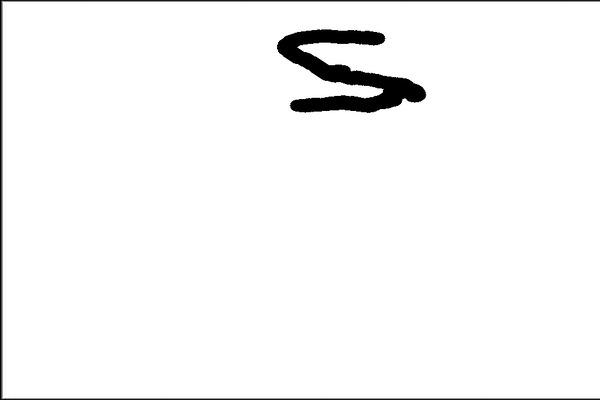S: (270, 22, 430, 121)
